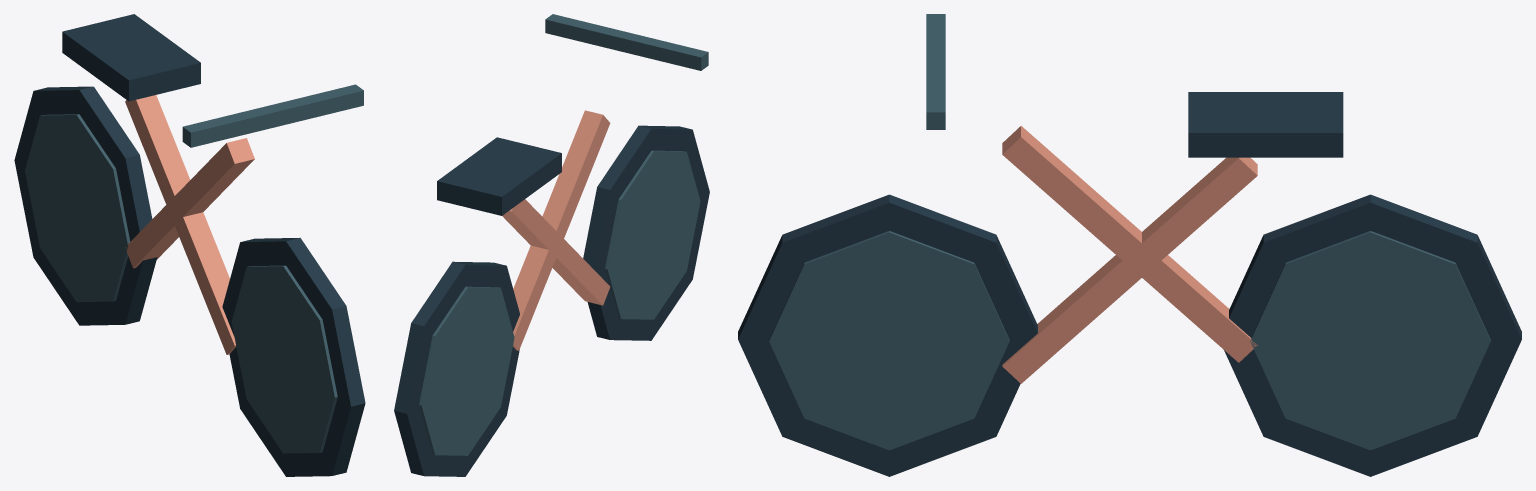
Rendered from bicycle.obj.
3 views of the same model, side by side, from view 1: azimuth 30°, elevation 25°; view 2: azimuth 150°, elevation 25°; view 3: azimuth 270°, elevation 25° (orthographic). The views are drawn at different scales.
Parts seen in each view (by area): view 1: bicycle; view 2: bicycle; view 3: bicycle.
Part boxes in pixels (<box>): bicycle: <box>14,14,365,476</box>; bicycle: <box>394,14,709,476</box>; bicycle: <box>738,14,1521,476</box>.
Bounding box in the file's own units: 0.6 × 1.16 × 2.02.
